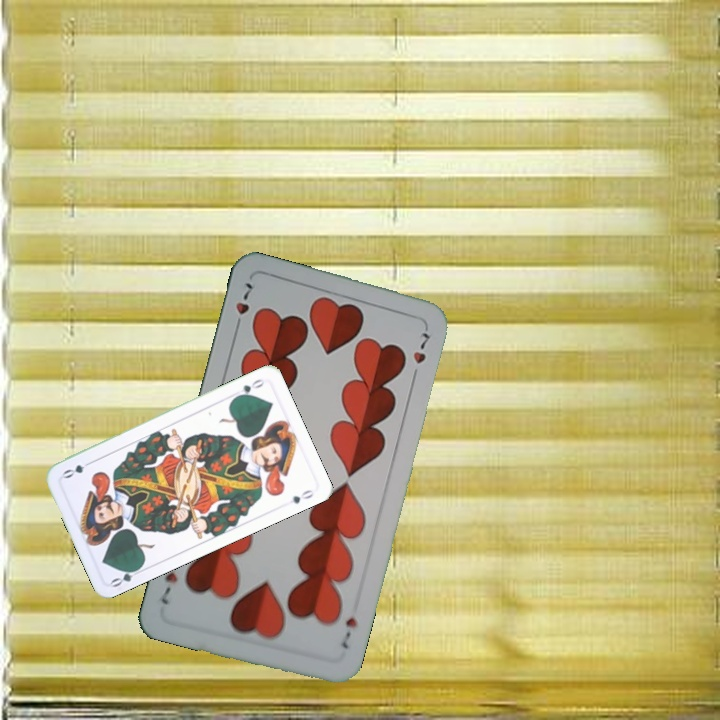GO: (107, 562, 146, 590), (230, 375, 267, 401)
H7: (230, 278, 258, 334), (336, 613, 360, 652)
